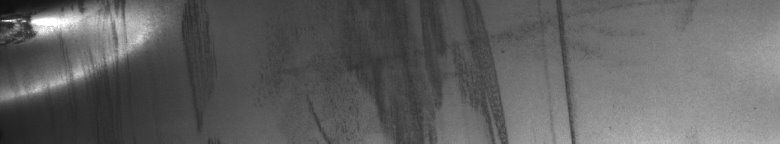ke: (4, 4, 148, 104)
